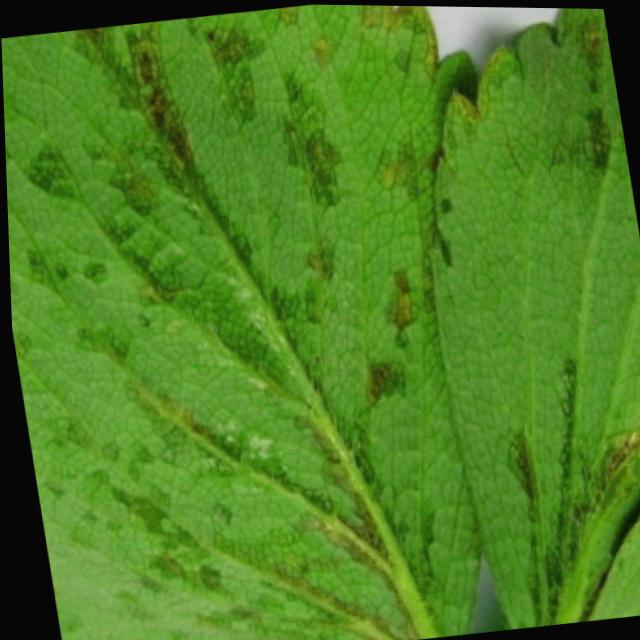Angular Leafspot: (1, 3, 477, 640), (426, 6, 640, 628), (577, 507, 640, 620)
